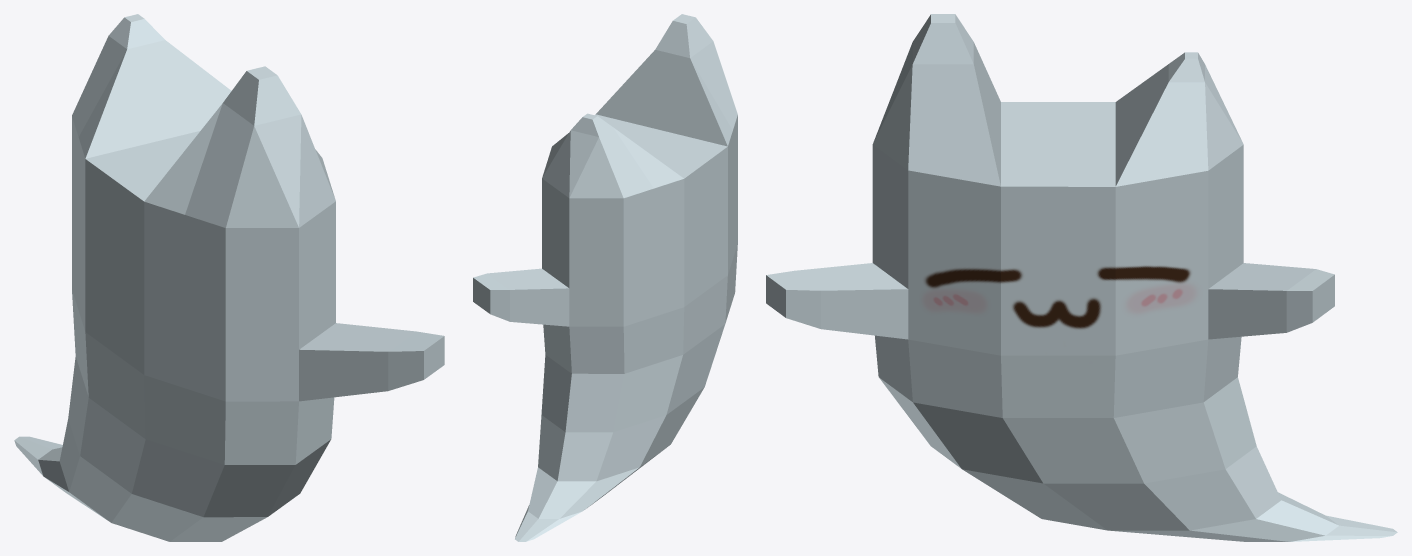
The model's file is ghostHappy.glb.
The picture shows the model from 3 angles, left to right: view 1: azimuth 30°, elevation 25°; view 2: azimuth 150°, elevation 25°; view 3: azimuth 270°, elevation 25°; orthographic projection. The views are drawn at different scales.
Visible parts, largest first — view 1: Cylinder; view 2: Cylinder; view 3: Cylinder.
Boxes of the visible parts, bbox=[...] form: Cylinder: bbox=[14, 14, 444, 541]; Cylinder: bbox=[473, 14, 737, 541]; Cylinder: bbox=[766, 14, 1397, 541].
Size of the model in its own units: 1.15 by 3.08 by 3.41.
1 material, 1 textured.
